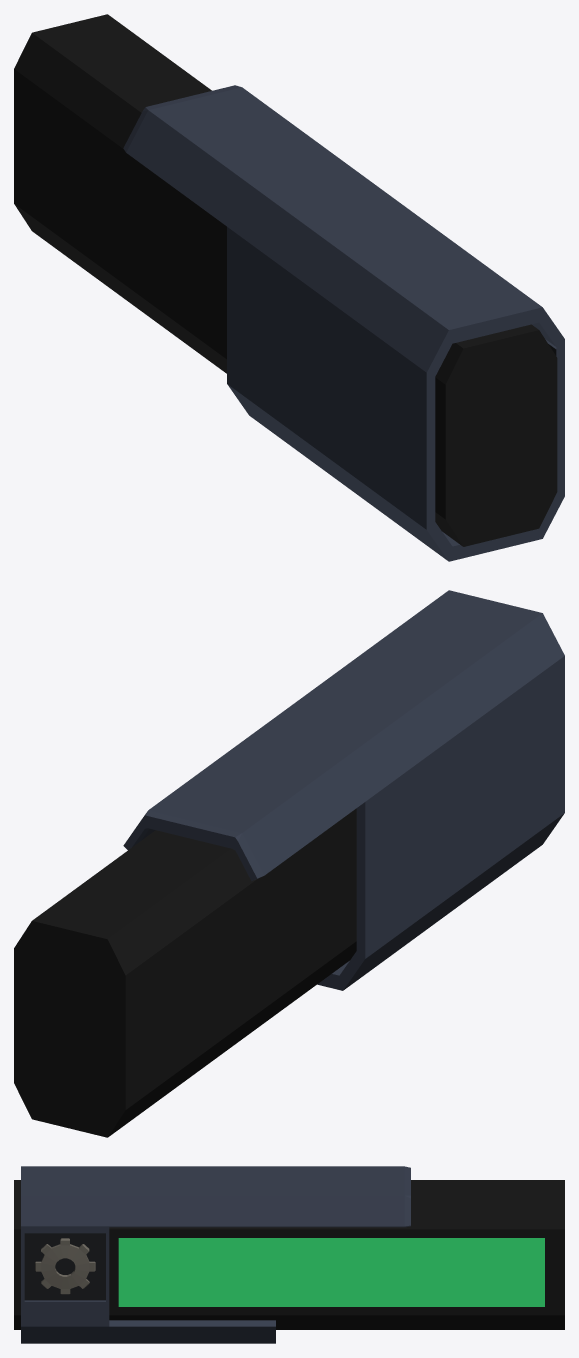
The model's file is Option Button.fbx.
3 views of the same model, one above another, from view 1: azimuth 30°, elevation 25°; view 2: azimuth 150°, elevation 25°; view 3: azimuth 270°, elevation 25° (orthographic). The views are drawn at different scales.
Parts seen in each view (by area): view 1: Option Button; view 2: Option Button; view 3: Option Button.
Boxes of the visible parts, <box> form: Option Button: <box>14,14,564,561</box>; Option Button: <box>14,590,564,1137</box>; Option Button: <box>14,1166,564,1343</box>.
Bounding box in the file's own units: 30.27 × 48.47 × 164.
